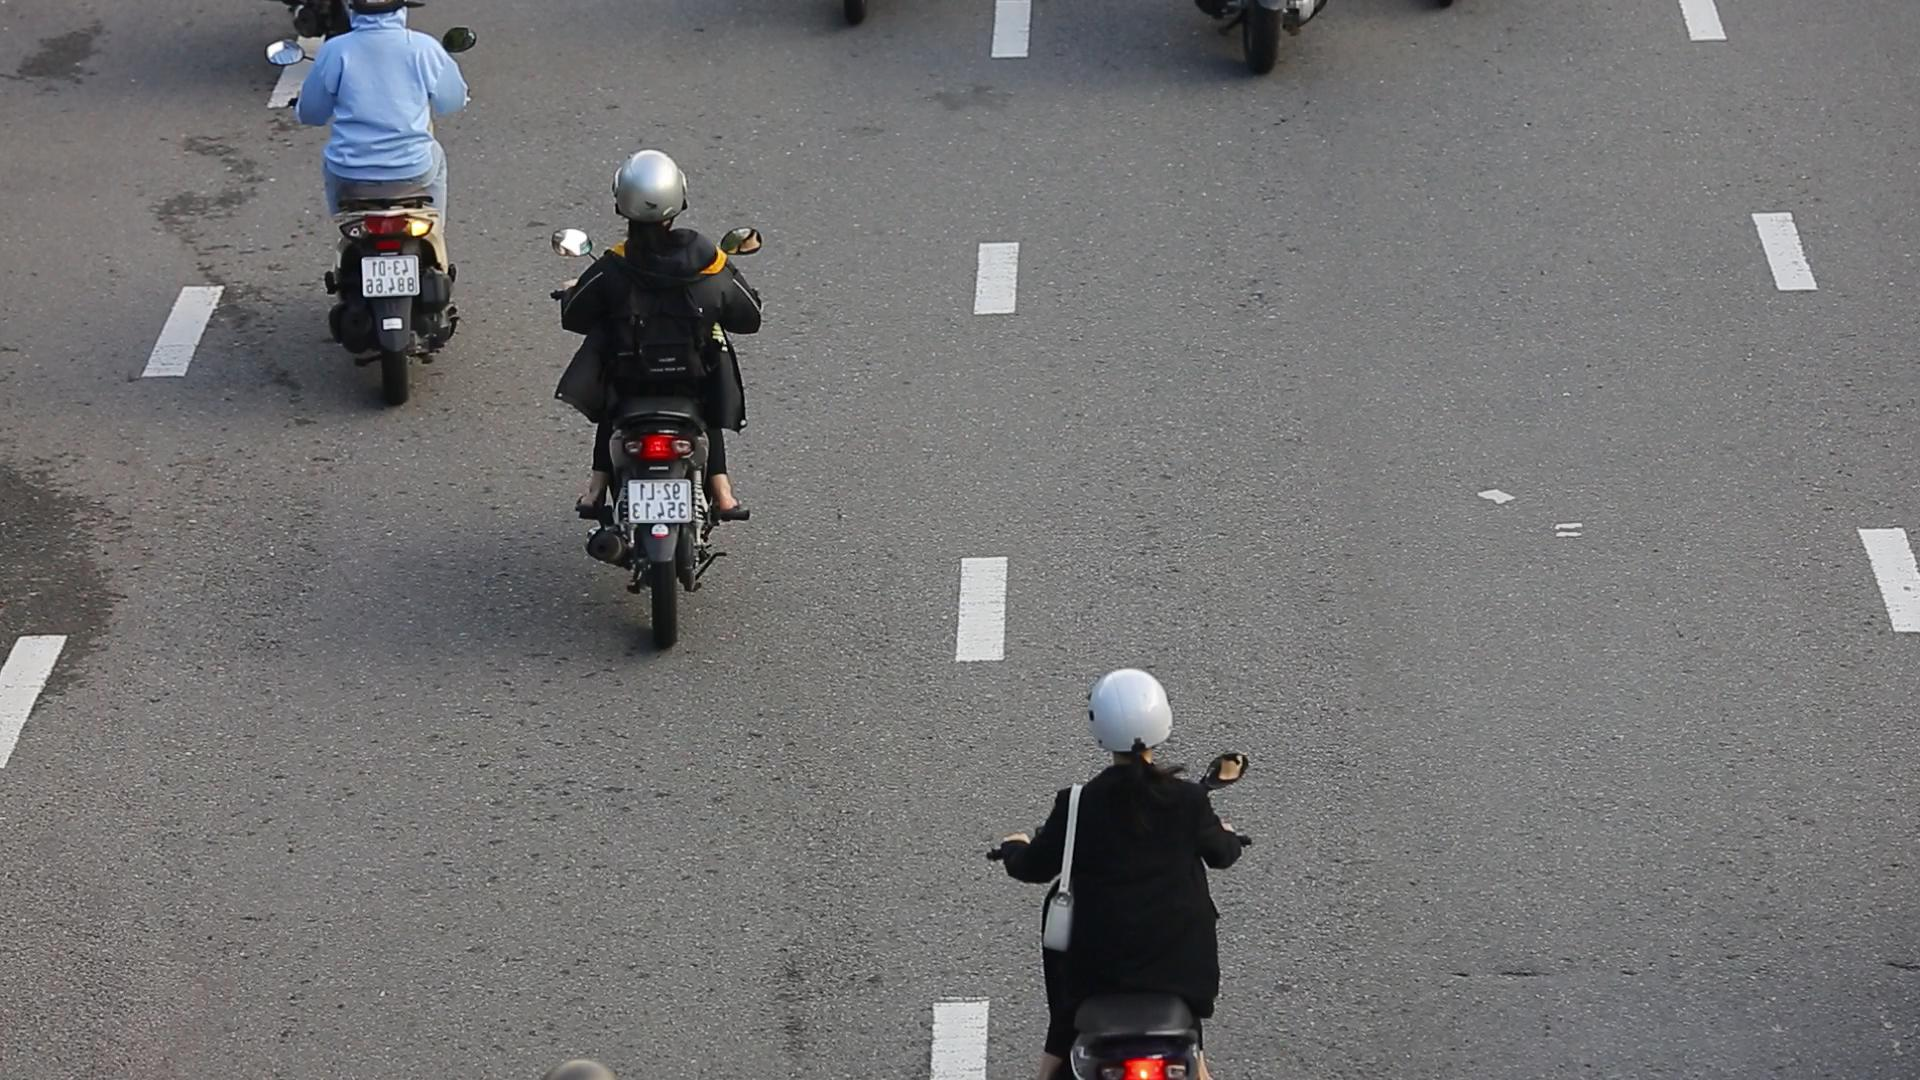motobike: (543, 150, 774, 653)
